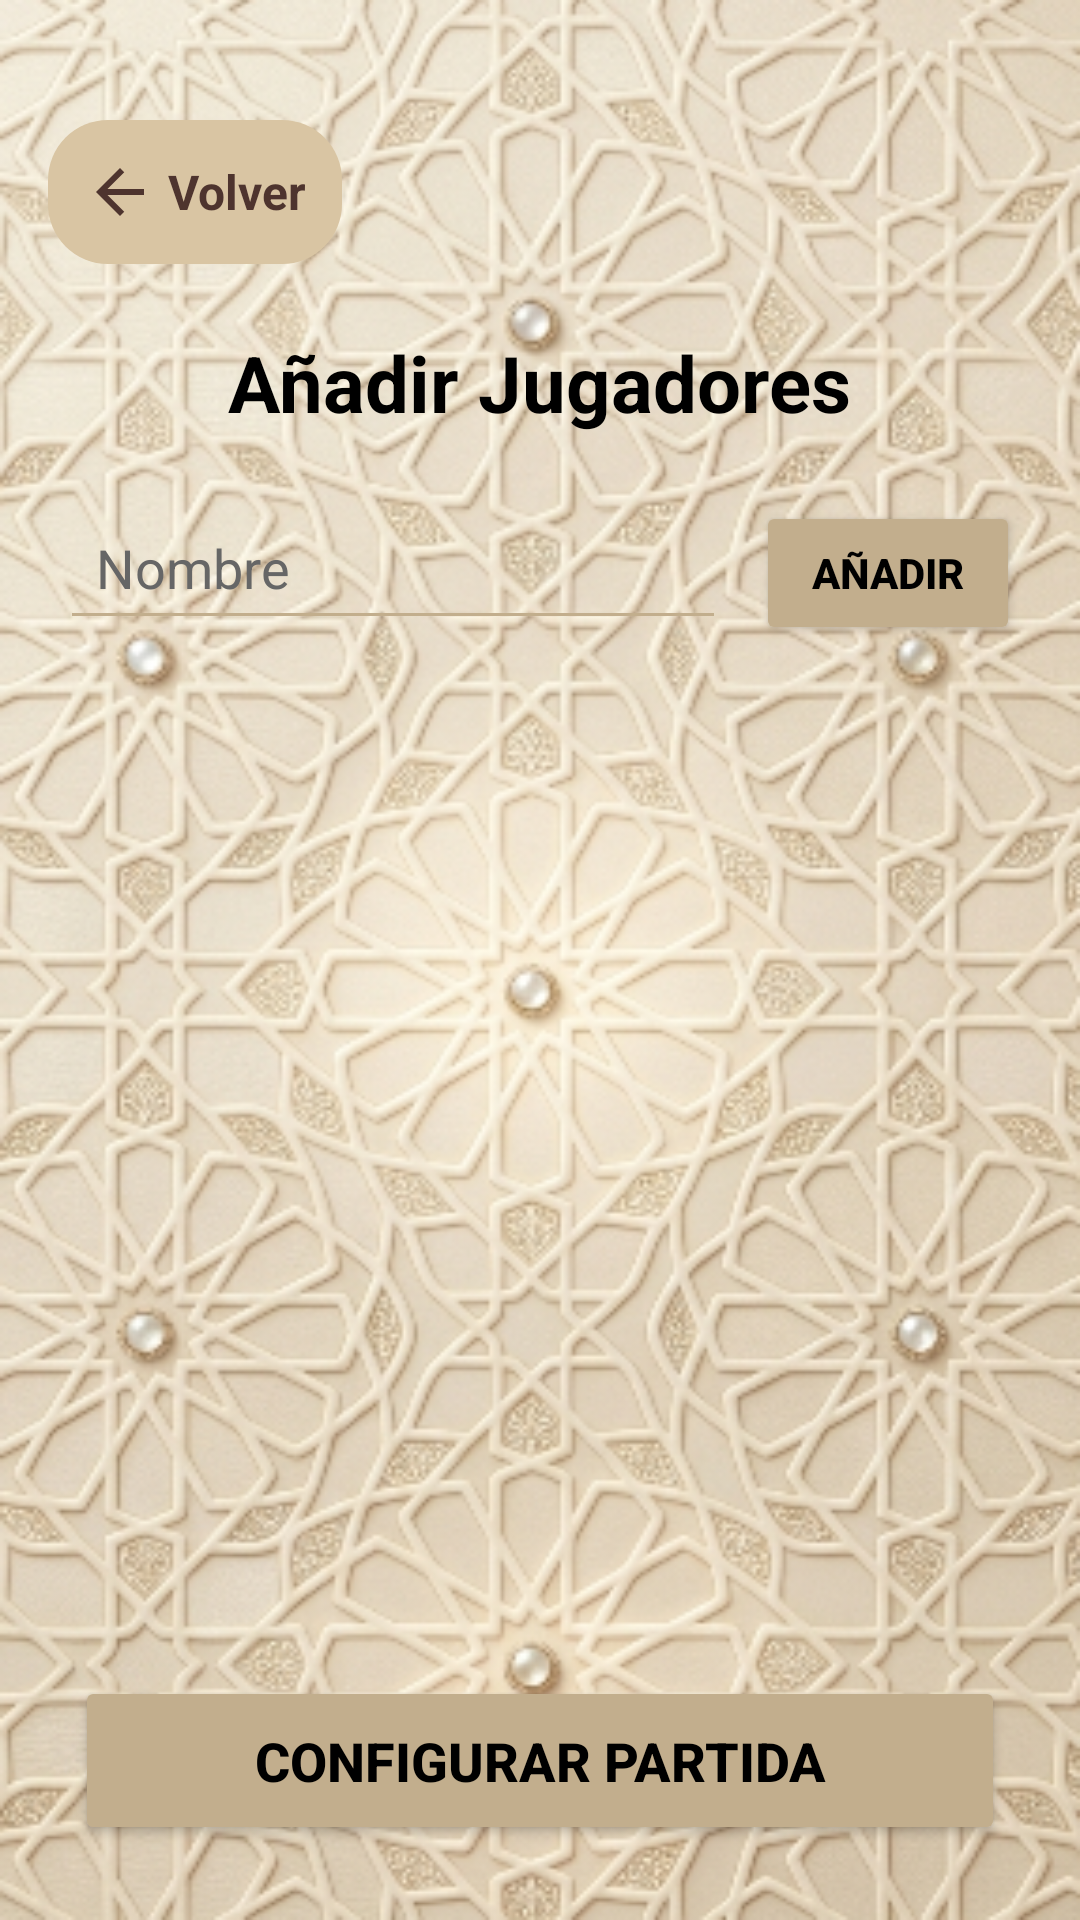

Screen size 1080w x 1920h. Icon name, then its center in pixels as point (x, y):
back arrow: point (120, 192)
